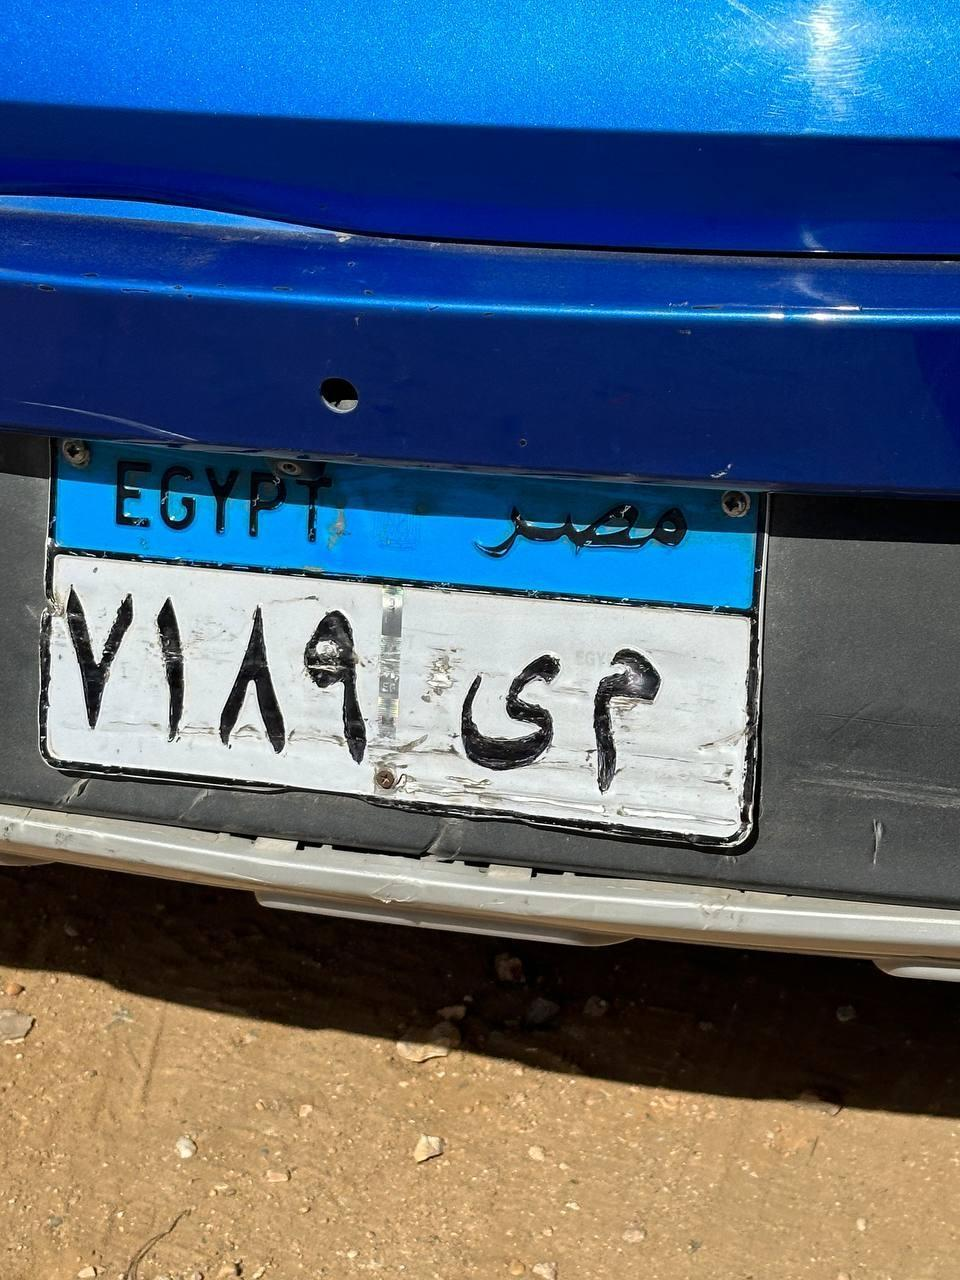1: (148, 586, 193, 732)
7: (58, 568, 129, 730)
8: (216, 590, 280, 754)
9: (298, 608, 377, 770)
License Plate: (43, 430, 763, 842)
Meem: (586, 643, 674, 810)
Yeeh: (453, 648, 559, 780)
